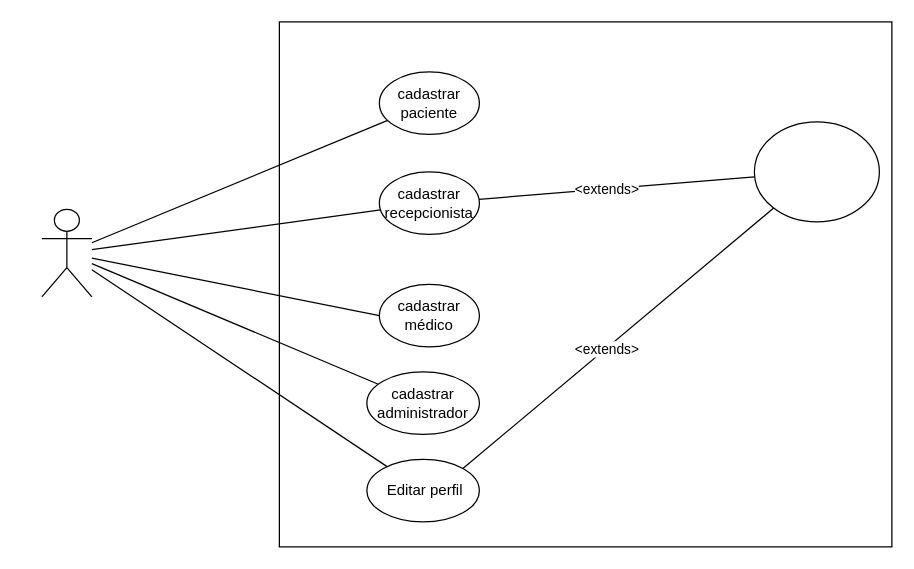
Image size: 914x569. Some labels were removed from this diagram. The shapes that lost their labels are listed below. From the top down, each one's box as (x1, y1, x2, y2) in pixels, then its label:
(753, 121, 879, 222): definir privilégios administrativos
(41, 208, 92, 297): administrador
